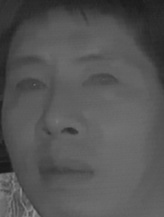eye: (82, 69, 119, 93), (14, 75, 49, 98)
mouth: (34, 150, 96, 190)
